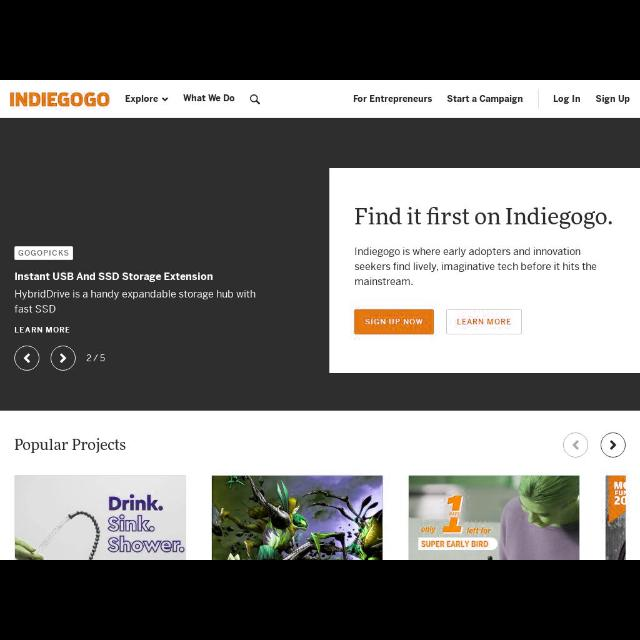button: (601, 432, 625, 458), (15, 346, 40, 370), (564, 433, 588, 457), (52, 346, 74, 372)
icon: (250, 94, 260, 104), (58, 353, 66, 363), (572, 440, 580, 450), (24, 354, 31, 364), (610, 441, 616, 451), (161, 97, 167, 101)
image: (14, 476, 186, 560), (212, 476, 384, 558), (410, 476, 578, 558), (14, 288, 256, 312), (9, 91, 109, 109), (606, 477, 626, 559), (14, 326, 72, 334)
spinner: (124, 92, 168, 106)
text: (354, 246, 598, 284), (355, 208, 613, 232), (15, 272, 214, 282), (15, 438, 126, 454), (352, 94, 432, 104), (447, 94, 523, 104), (365, 315, 423, 327), (183, 92, 234, 104), (456, 317, 509, 327), (17, 248, 69, 258), (124, 94, 158, 104), (595, 95, 629, 105), (554, 95, 580, 106), (86, 354, 102, 362)
textbutton: (354, 310, 434, 336), (446, 309, 524, 333)
toolbar: (1, 81, 639, 117)
